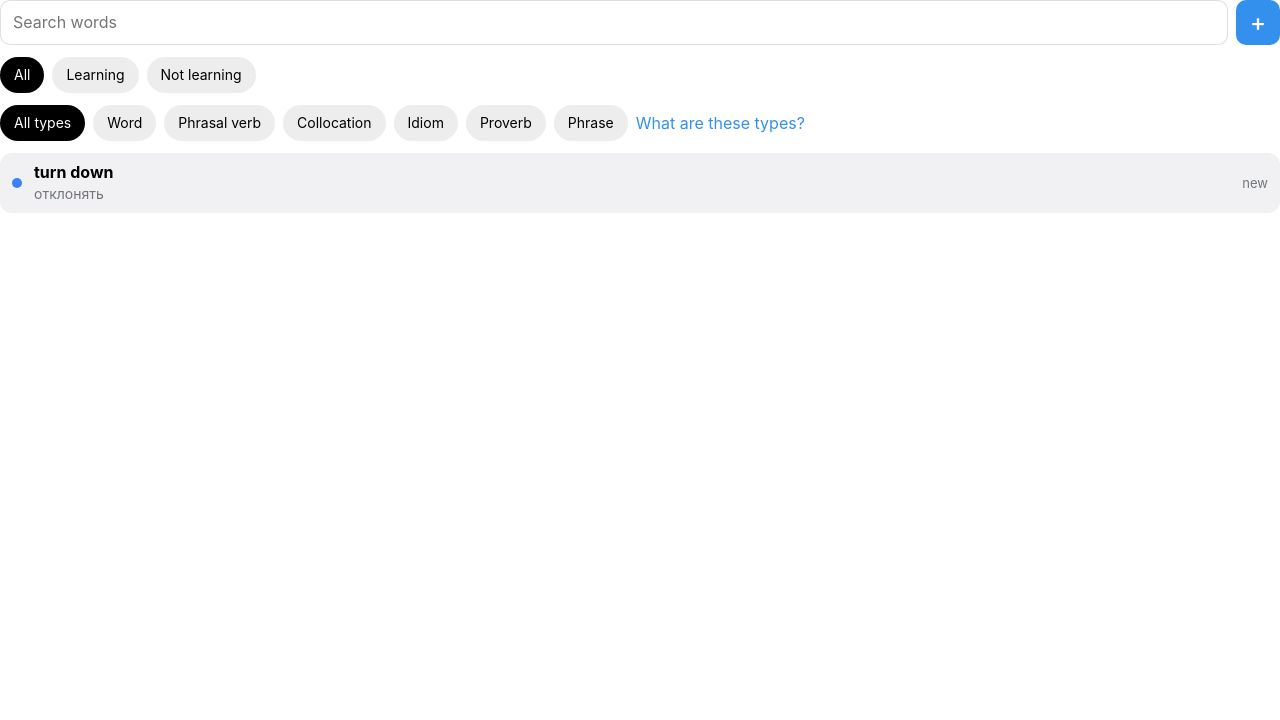
Test case: CardsPage › card sheet › asks for confirmation before deleting, then closes the sheet and reloads
The image size is (1280, 720).
Click the text "turn down" at x=74, y=172, box left=34, top=162, right=114, bottom=182
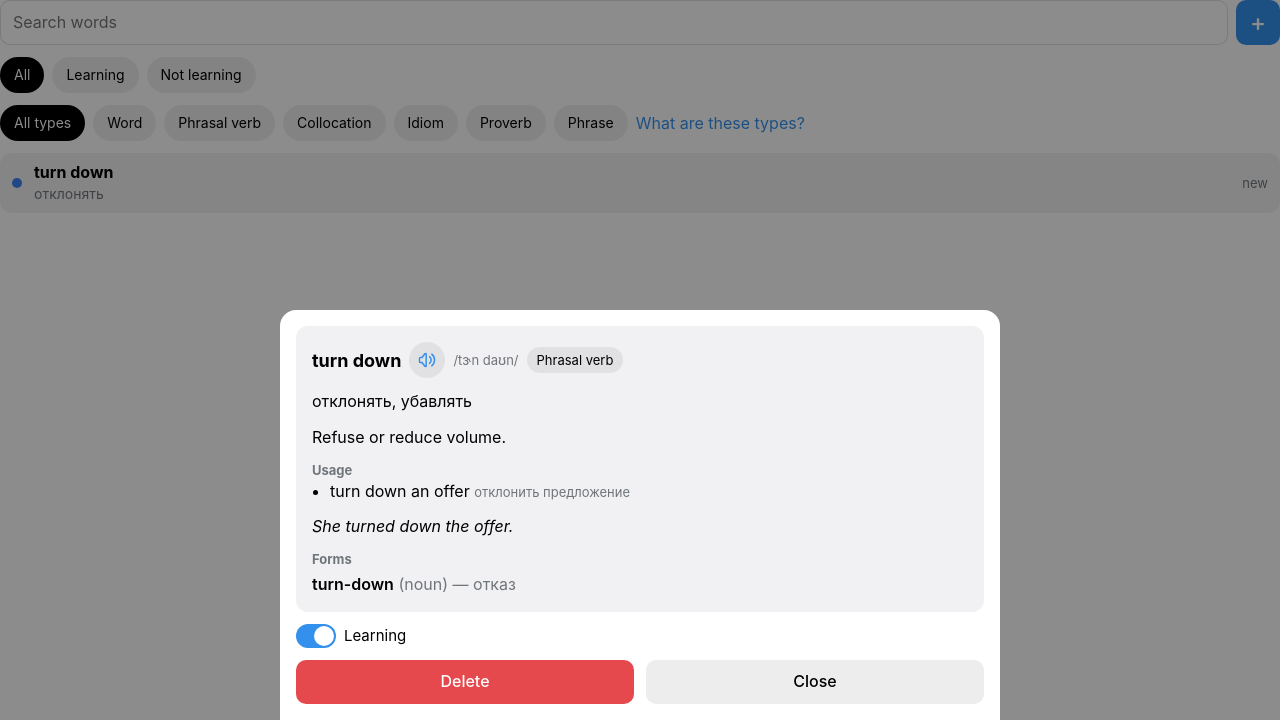
Click the button "Delete" at x=465, y=682, box left=296, top=660, right=634, bottom=704
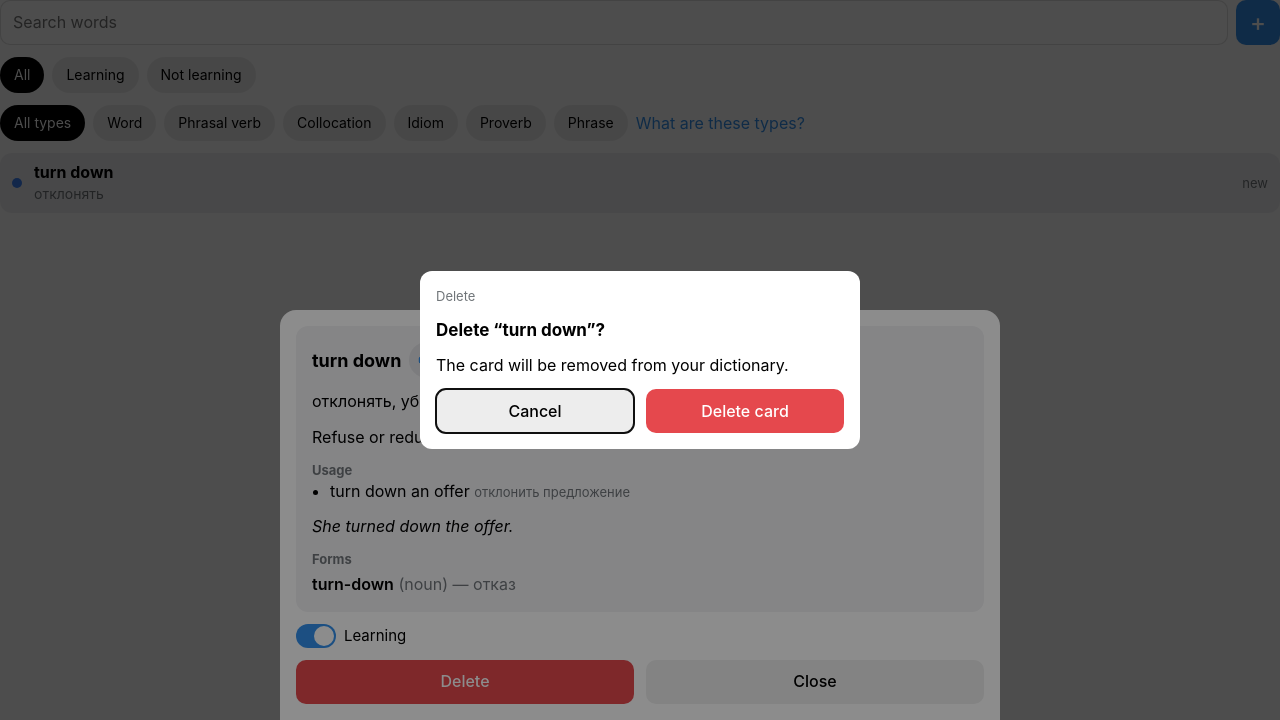
Escape cancels the confirmation first and leaves the sheet open.
Press Escape
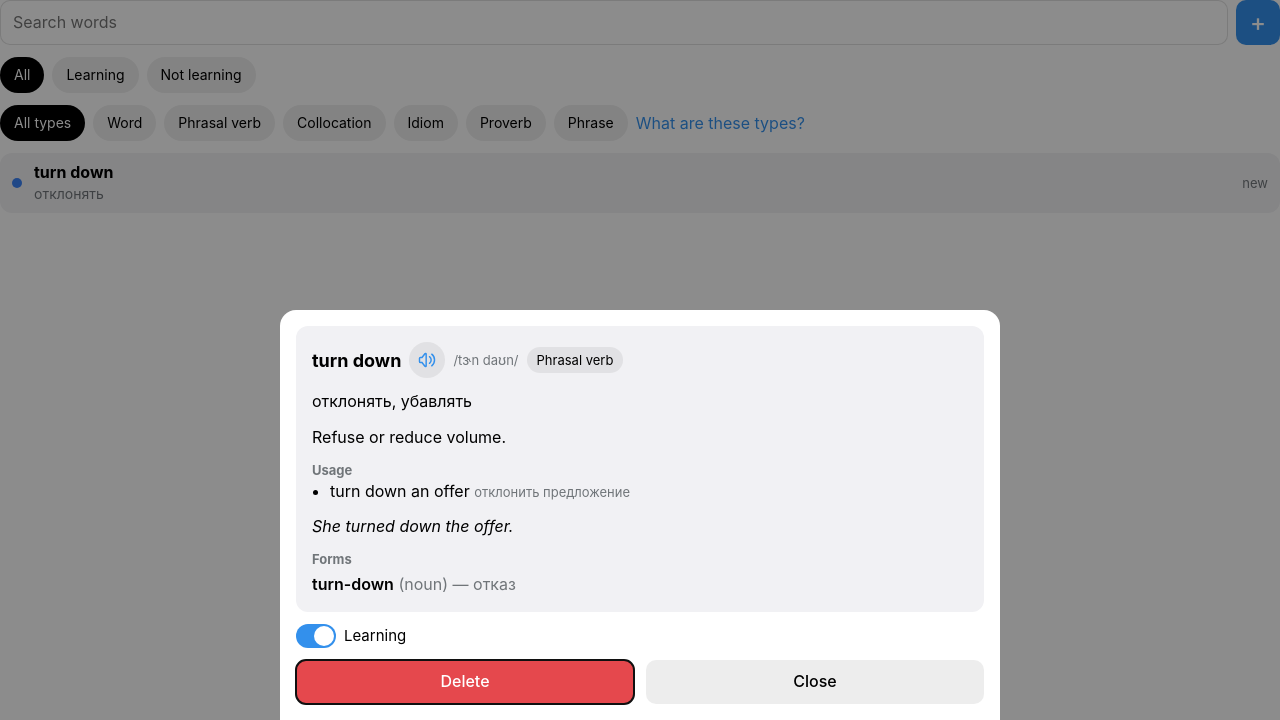
Now the dialog "turn down" is shown, box left=280, top=310, right=1000, bottom=719
Now the heading "Delete “turn down”?" is gone
Click the button "Delete" at x=465, y=682, box left=296, top=660, right=634, bottom=704
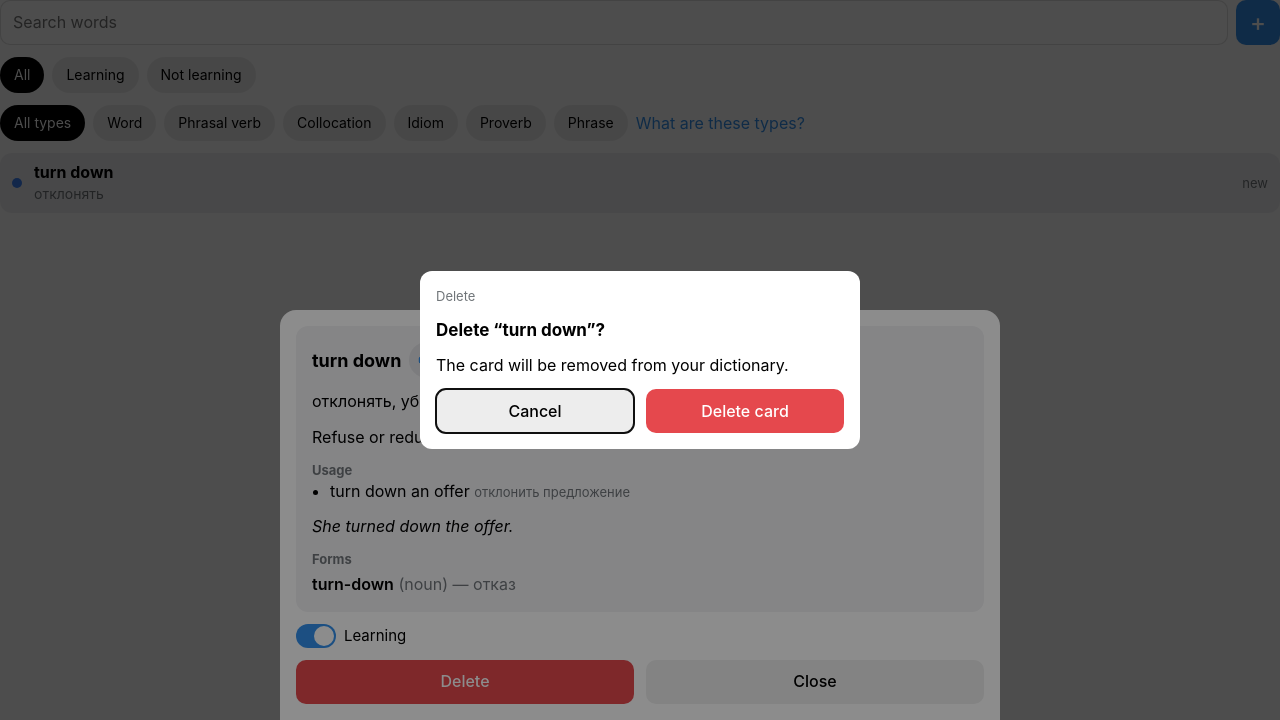
Click the button "Delete card" at x=745, y=411, box left=646, top=389, right=844, bottom=433
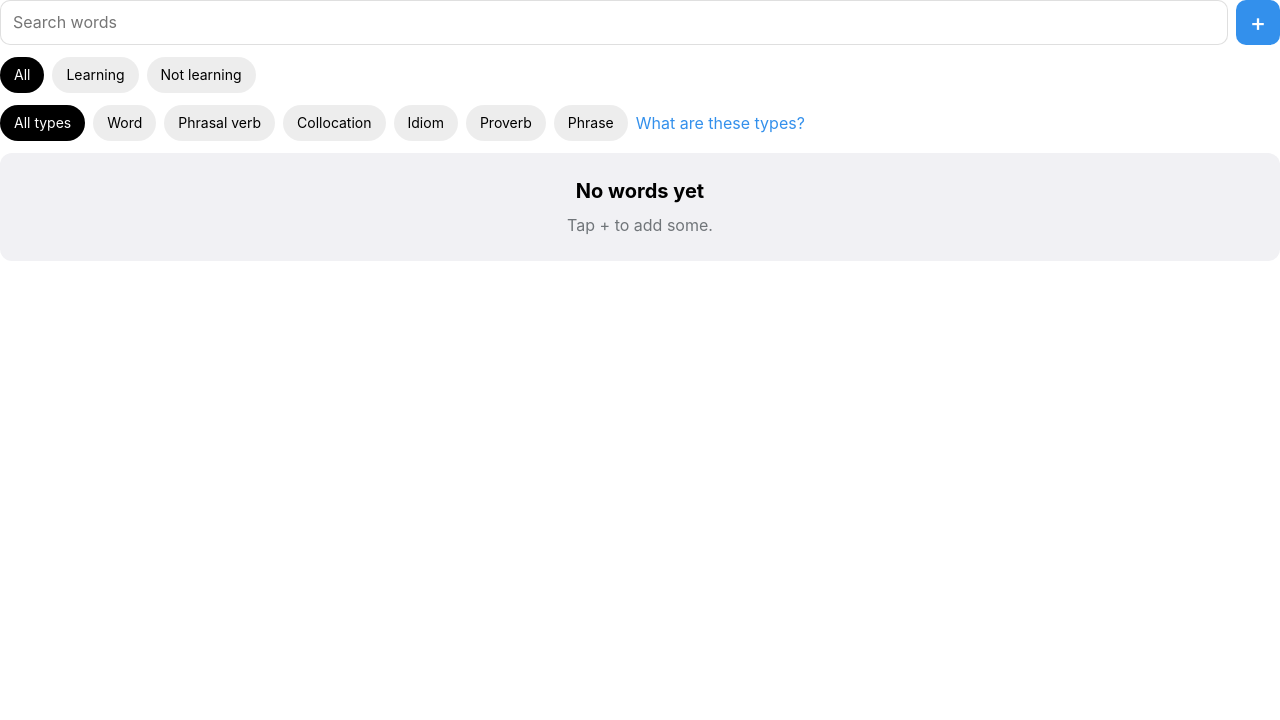
Now the heading "No words yet" is shown, box left=576, top=177, right=704, bottom=206
Now the dialog is gone
